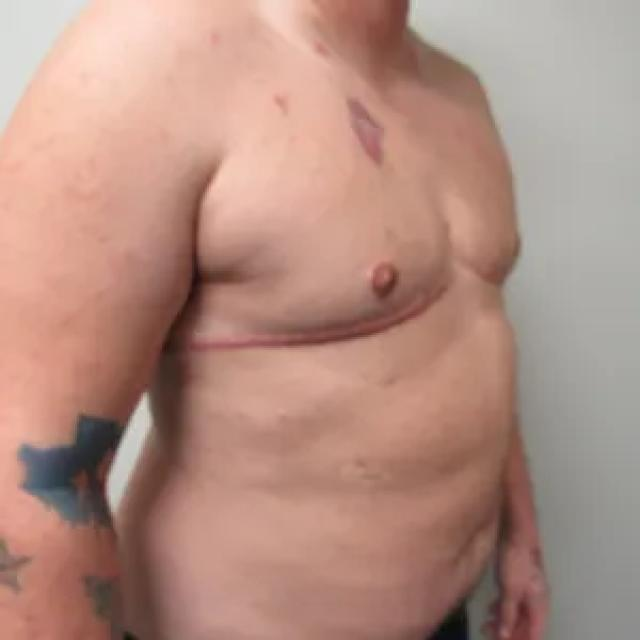Seno herido: (156, 86, 448, 382), (453, 86, 528, 308)
